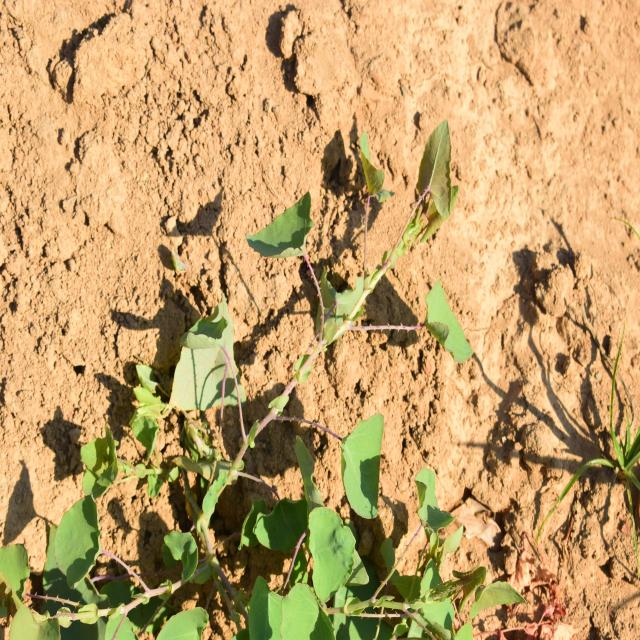Asiatic_Smartweed: (243, 110, 481, 362), (252, 409, 391, 627), (7, 492, 211, 636), (380, 454, 510, 633), (163, 290, 263, 500)
